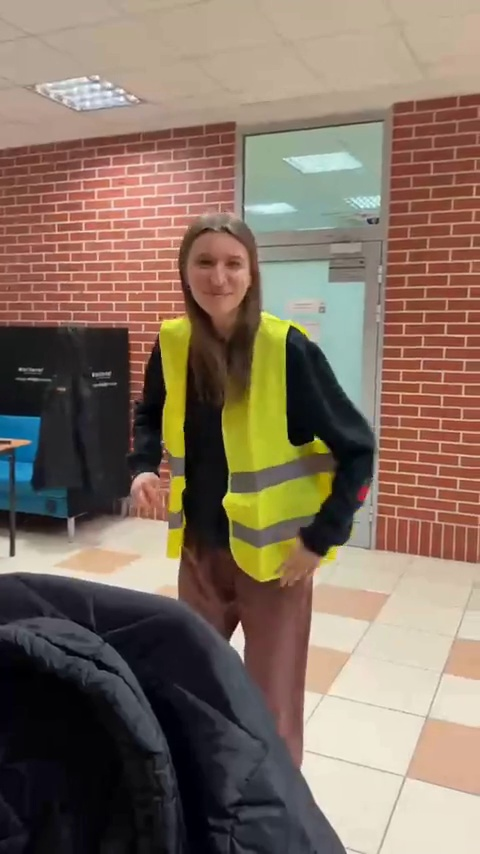vest: (135, 214, 377, 725)
